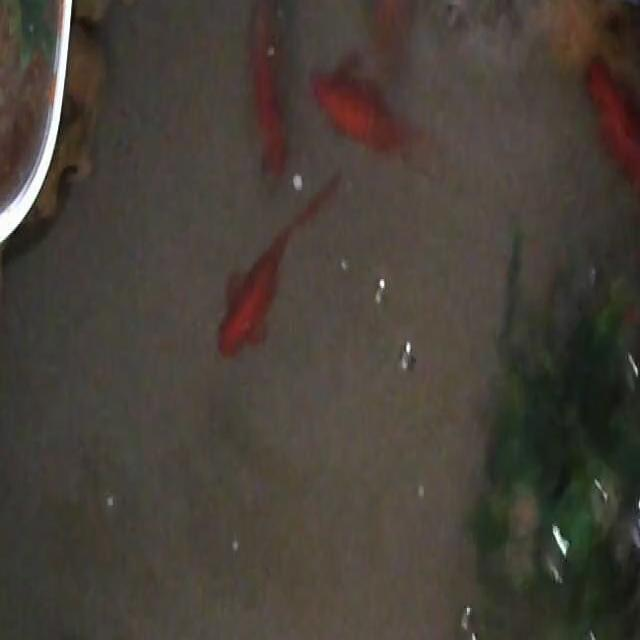fish: (218, 167, 340, 356), (308, 60, 448, 176), (580, 51, 640, 265), (248, 0, 290, 180)
